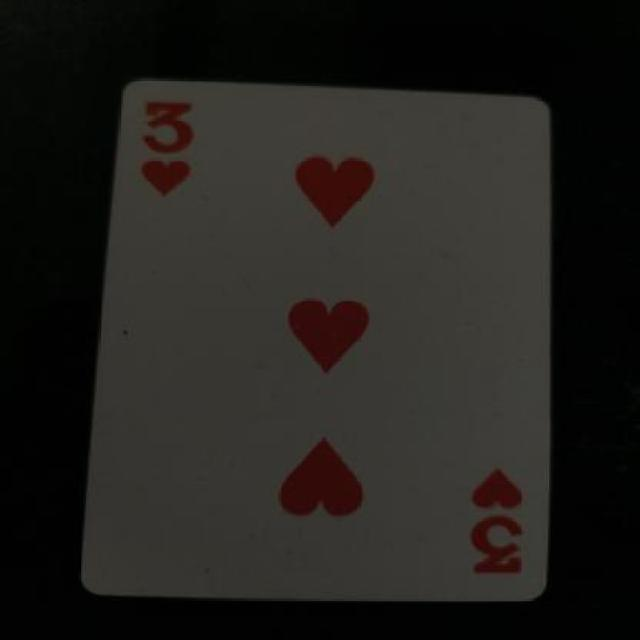3H: (123, 104, 236, 208), (454, 469, 534, 586)
